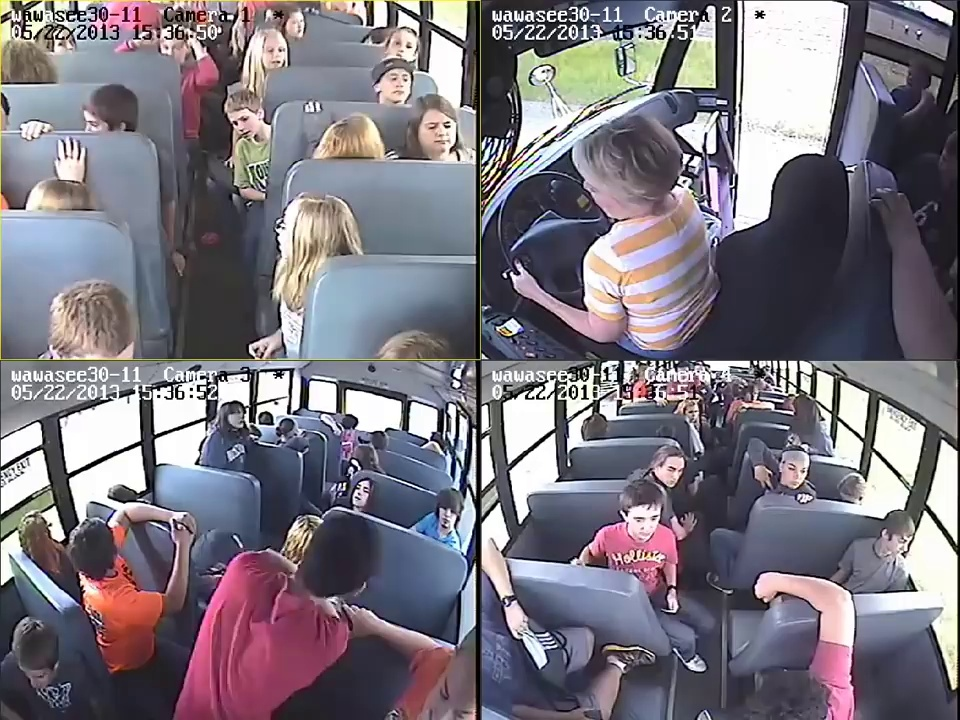face: (274, 202, 312, 261), (418, 106, 457, 151), (80, 94, 113, 133), (228, 105, 255, 142), (628, 507, 659, 539), (256, 38, 285, 69), (159, 39, 191, 62), (389, 31, 417, 57), (20, 667, 47, 693), (385, 69, 410, 97), (662, 459, 685, 487), (349, 481, 373, 506), (786, 460, 807, 486), (282, 13, 304, 36), (890, 531, 912, 554), (437, 506, 459, 529), (223, 406, 245, 429), (680, 404, 700, 422)
